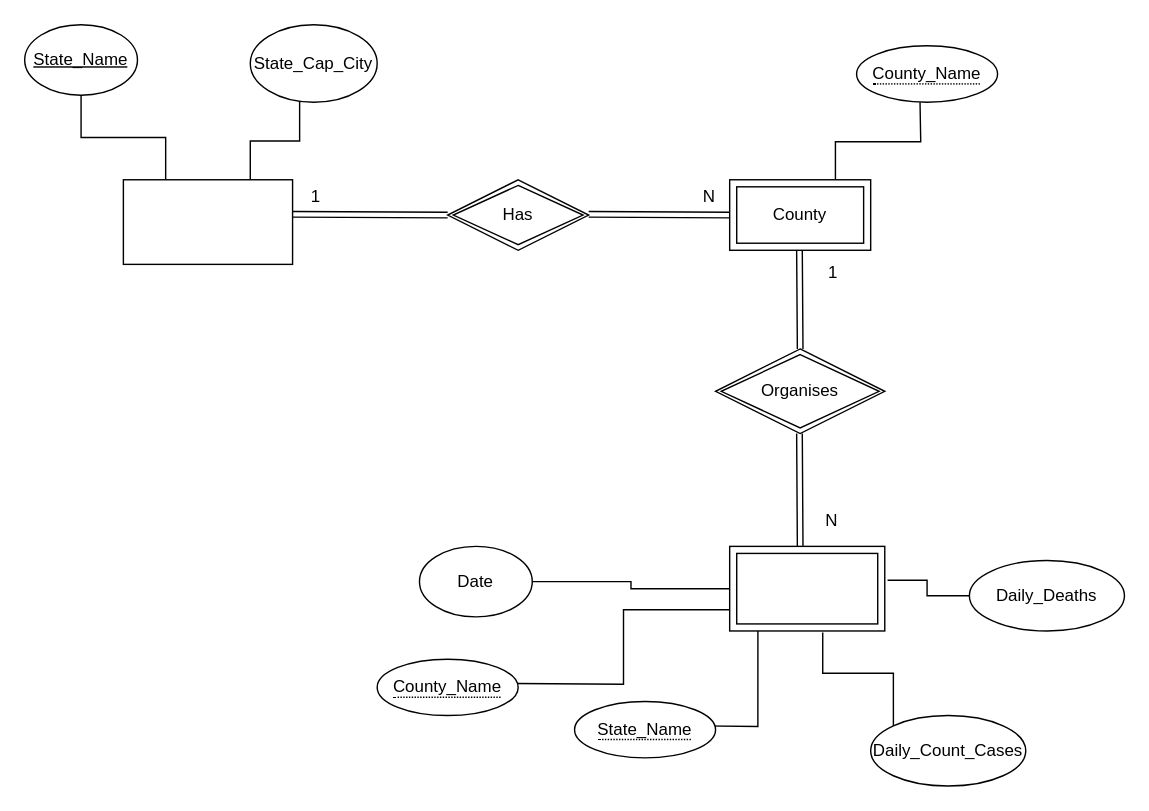
Some shapes in this 1149 by 811 pixel diagram are drawn without their labels. Each missing label, with the centre of its shape:
Covid_By_County: [806,588]
State: [207,221]
